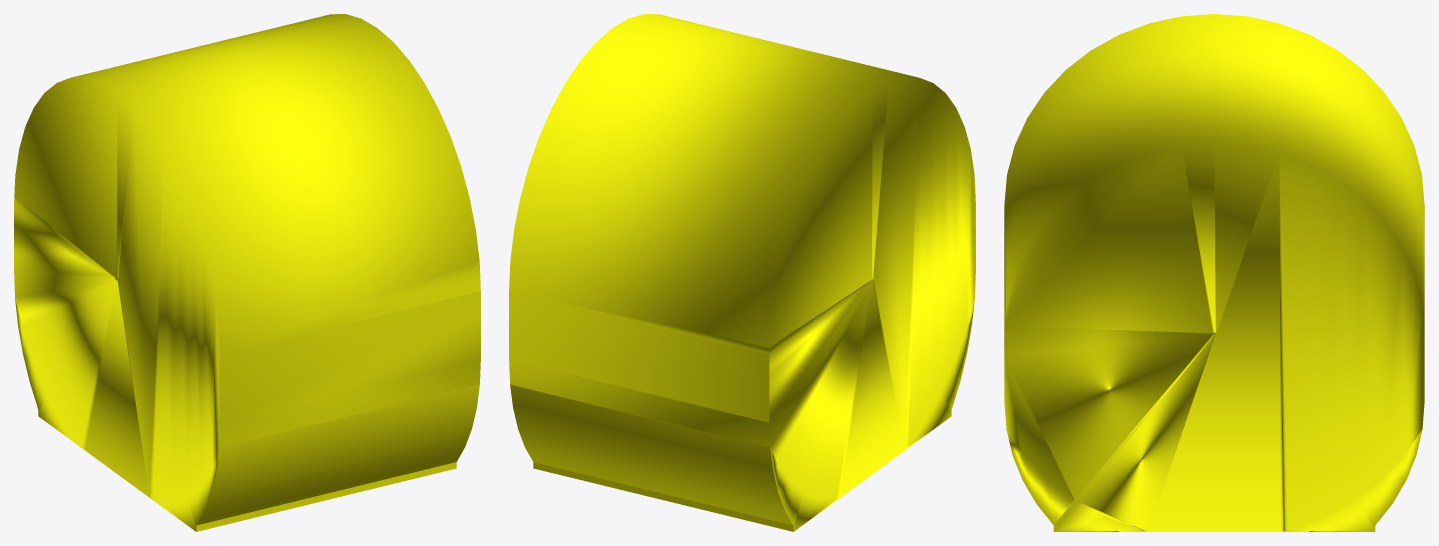
File: clay-paky__volero-wave.glb
3 renders of one model, left to right at view 1: azimuth 30°, elevation 25°; view 2: azimuth 150°, elevation 25°; view 3: azimuth 270°, elevation 25°, orthographic.
Visible parts, largest first — view 1: Volero Wave_Body; view 2: Volero Wave_Body; view 3: Volero Wave_Body.
Part boxes in pixels (left/top/right/bottom): Volero Wave_Body: left=14, top=14, right=480, bottom=531; Volero Wave_Body: left=509, top=14, right=975, bottom=531; Volero Wave_Body: left=1004, top=14, right=1424, bottom=531.
Bounding box in the file's own units: 0.1007 × 0.1401 × 0.1372.
